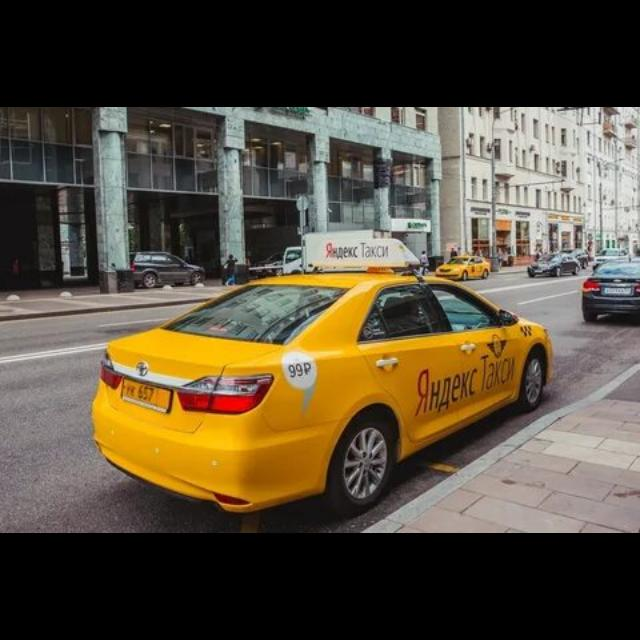taxi: (90, 232, 554, 518), (436, 255, 492, 281)
